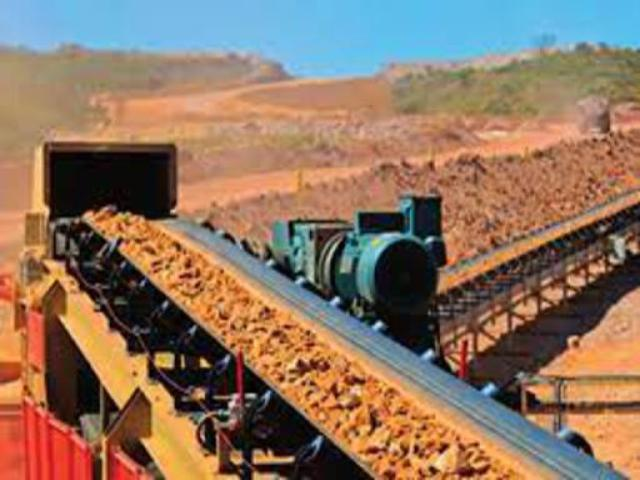conveyor: (65, 199, 632, 480)
